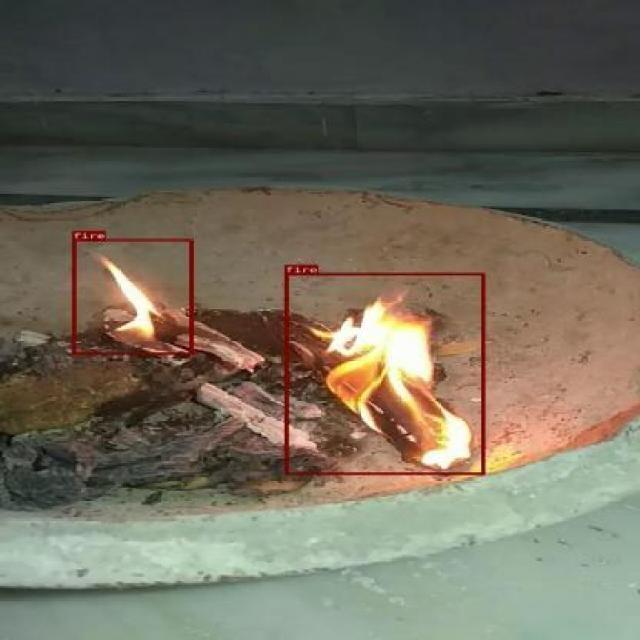fire: (284, 274, 484, 475), (72, 239, 194, 354)
